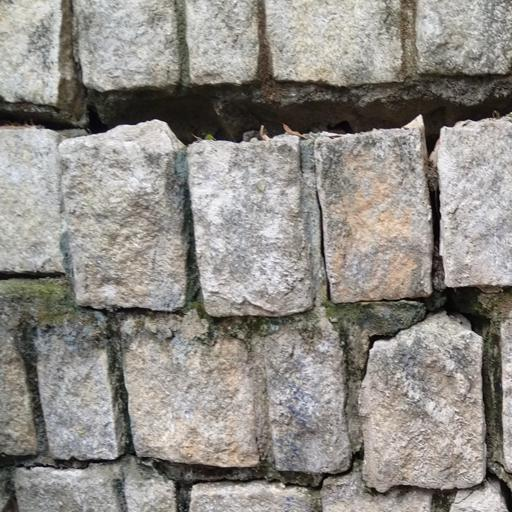major_crack: (268, 265, 512, 512), (6, 56, 512, 171), (1, 431, 380, 512)
